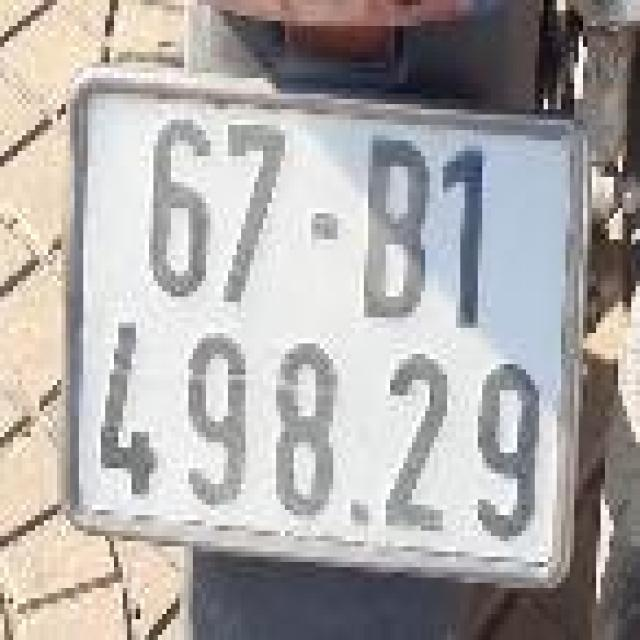1: (441, 132, 493, 340)
2: (384, 338, 449, 536)
4: (96, 312, 162, 505)
6: (144, 114, 214, 302)
7: (224, 117, 294, 315)
8: (272, 333, 342, 526)
9: (178, 323, 252, 515), (471, 354, 537, 546)
B: (357, 127, 432, 330)
